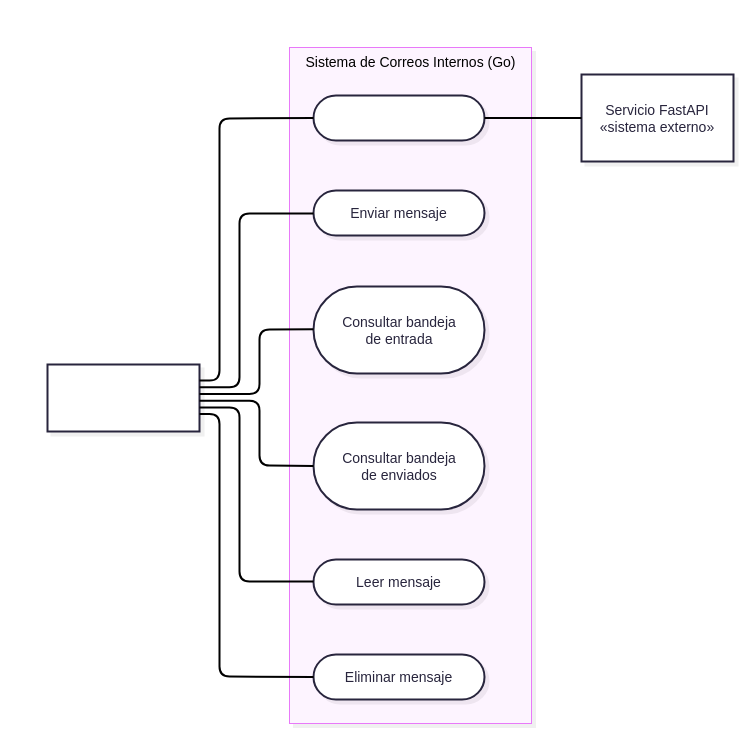
The diagram is 755 pixels wide and 745 high, and some of its shapes have lost their labels. Here are the shapes that lost their labels. From the top down, the centre of each, then its label:
(x=400, y=119): Iniciar sesión
(x=125, y=399): Empleado «actor»
